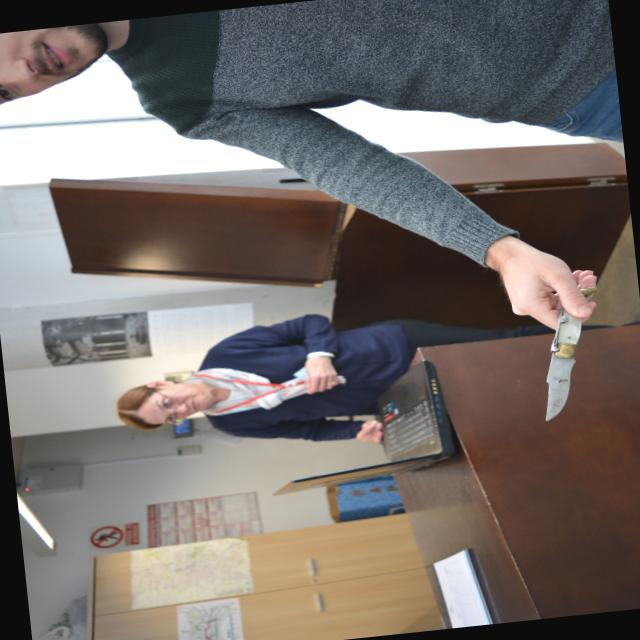knife: (524, 280, 618, 426)
